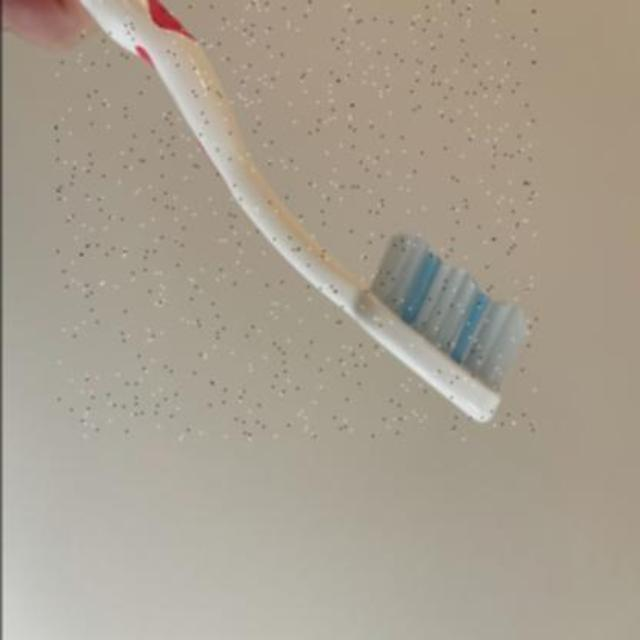toothbrush: (54, 0, 536, 440)
